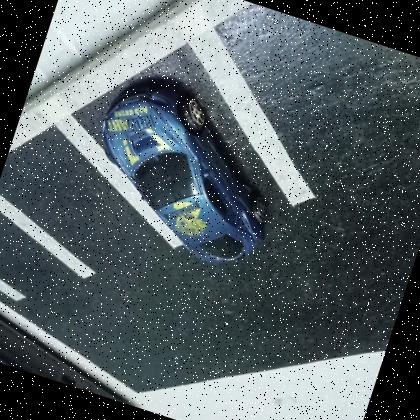Car: (70, 72, 299, 280)
